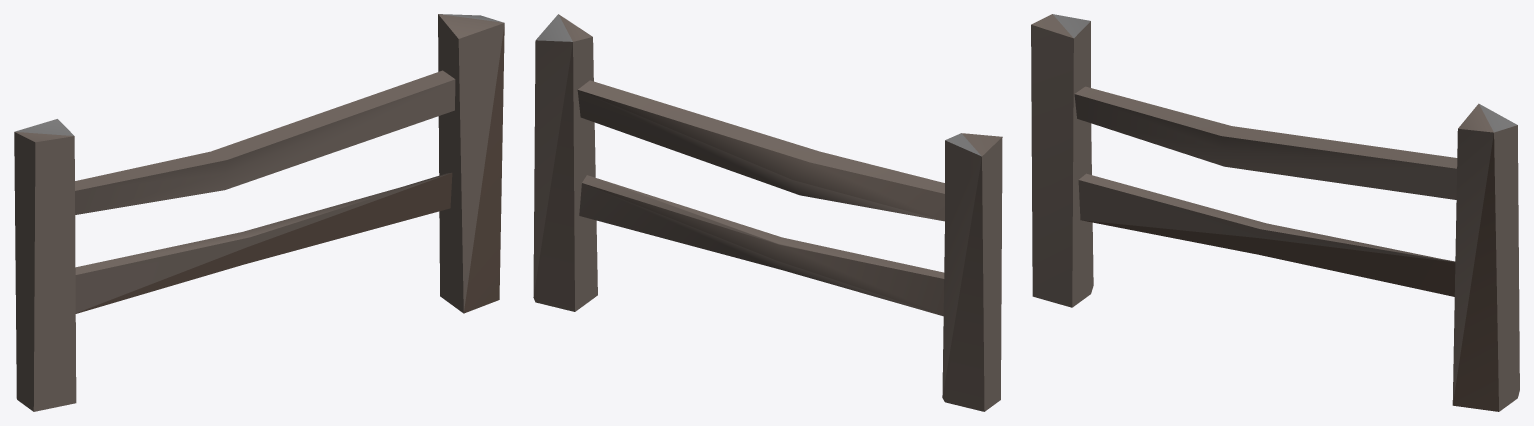
File: Fence 3.fbx
3 renders of one model, left to right at view 1: azimuth 30°, elevation 25°; view 2: azimuth 150°, elevation 25°; view 3: azimuth 330°, elevation 25°, orthographic. The views are drawn at different scales.
Parts seen in each view (by area): view 1: pasted__Fence1; view 2: pasted__Fence1; view 3: pasted__Fence1.
Part boxes in pixels (x1,y1,x2,y2): pasted__Fence1: (14, 14, 504, 411); pasted__Fence1: (533, 14, 1002, 411); pasted__Fence1: (1031, 14, 1519, 411).
Size of the model in its own units: 21.27 by 12.29 by 2.08.
